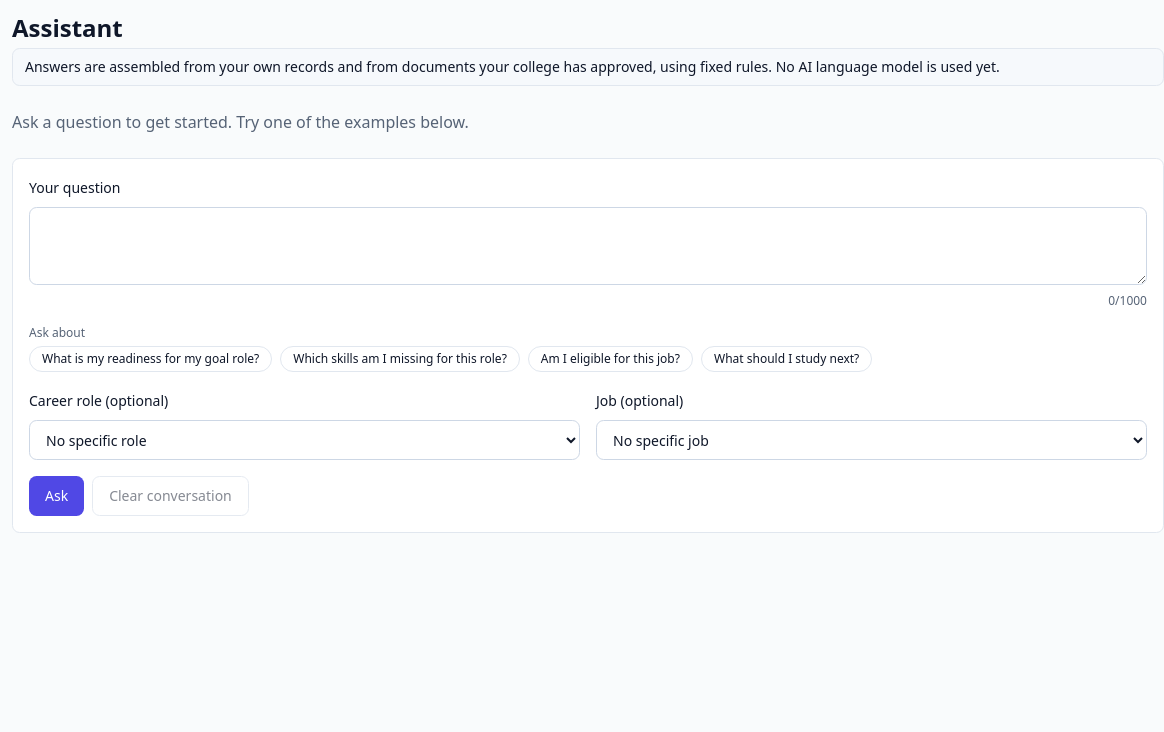
Test: AssistantPage › example chip fills the input
Click the button "What should I study next?".
click(787, 359)  # box [701,346,872,372]
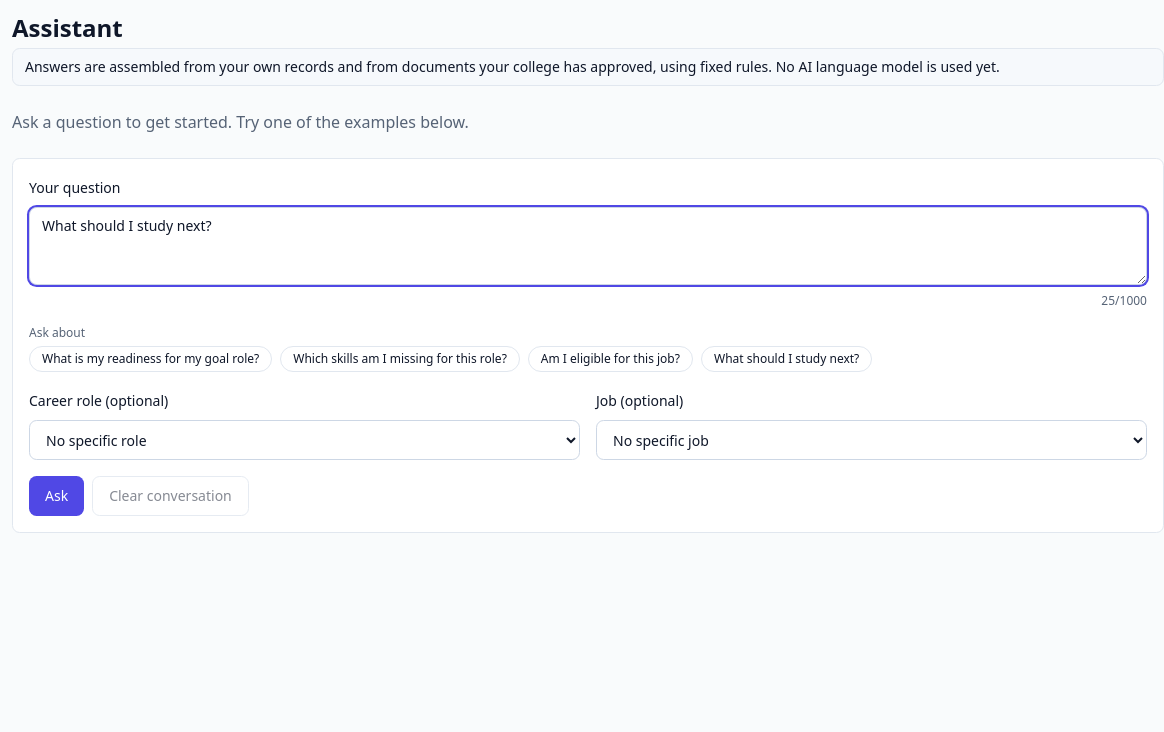
Now the text box labelled "Your question" holds "What should I study next?", box [29,207,1147,285]
